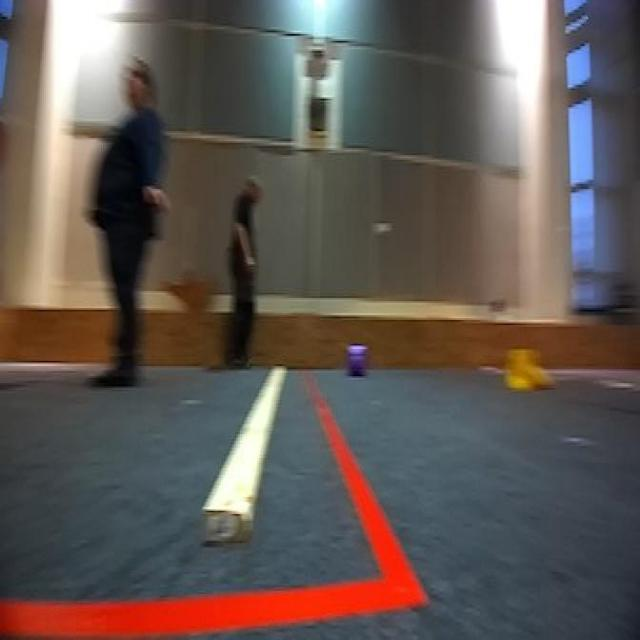frc_cone: (502, 347, 558, 395)
frc_cube: (346, 346, 368, 376)
